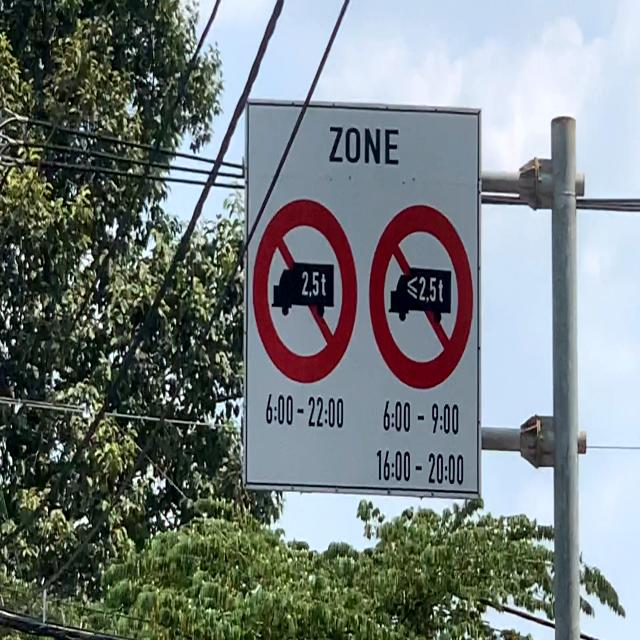P.106b: (250, 193, 363, 384), (368, 200, 474, 388)
